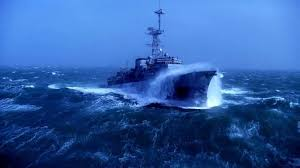tau_muctieu: (110, 19, 214, 106)
